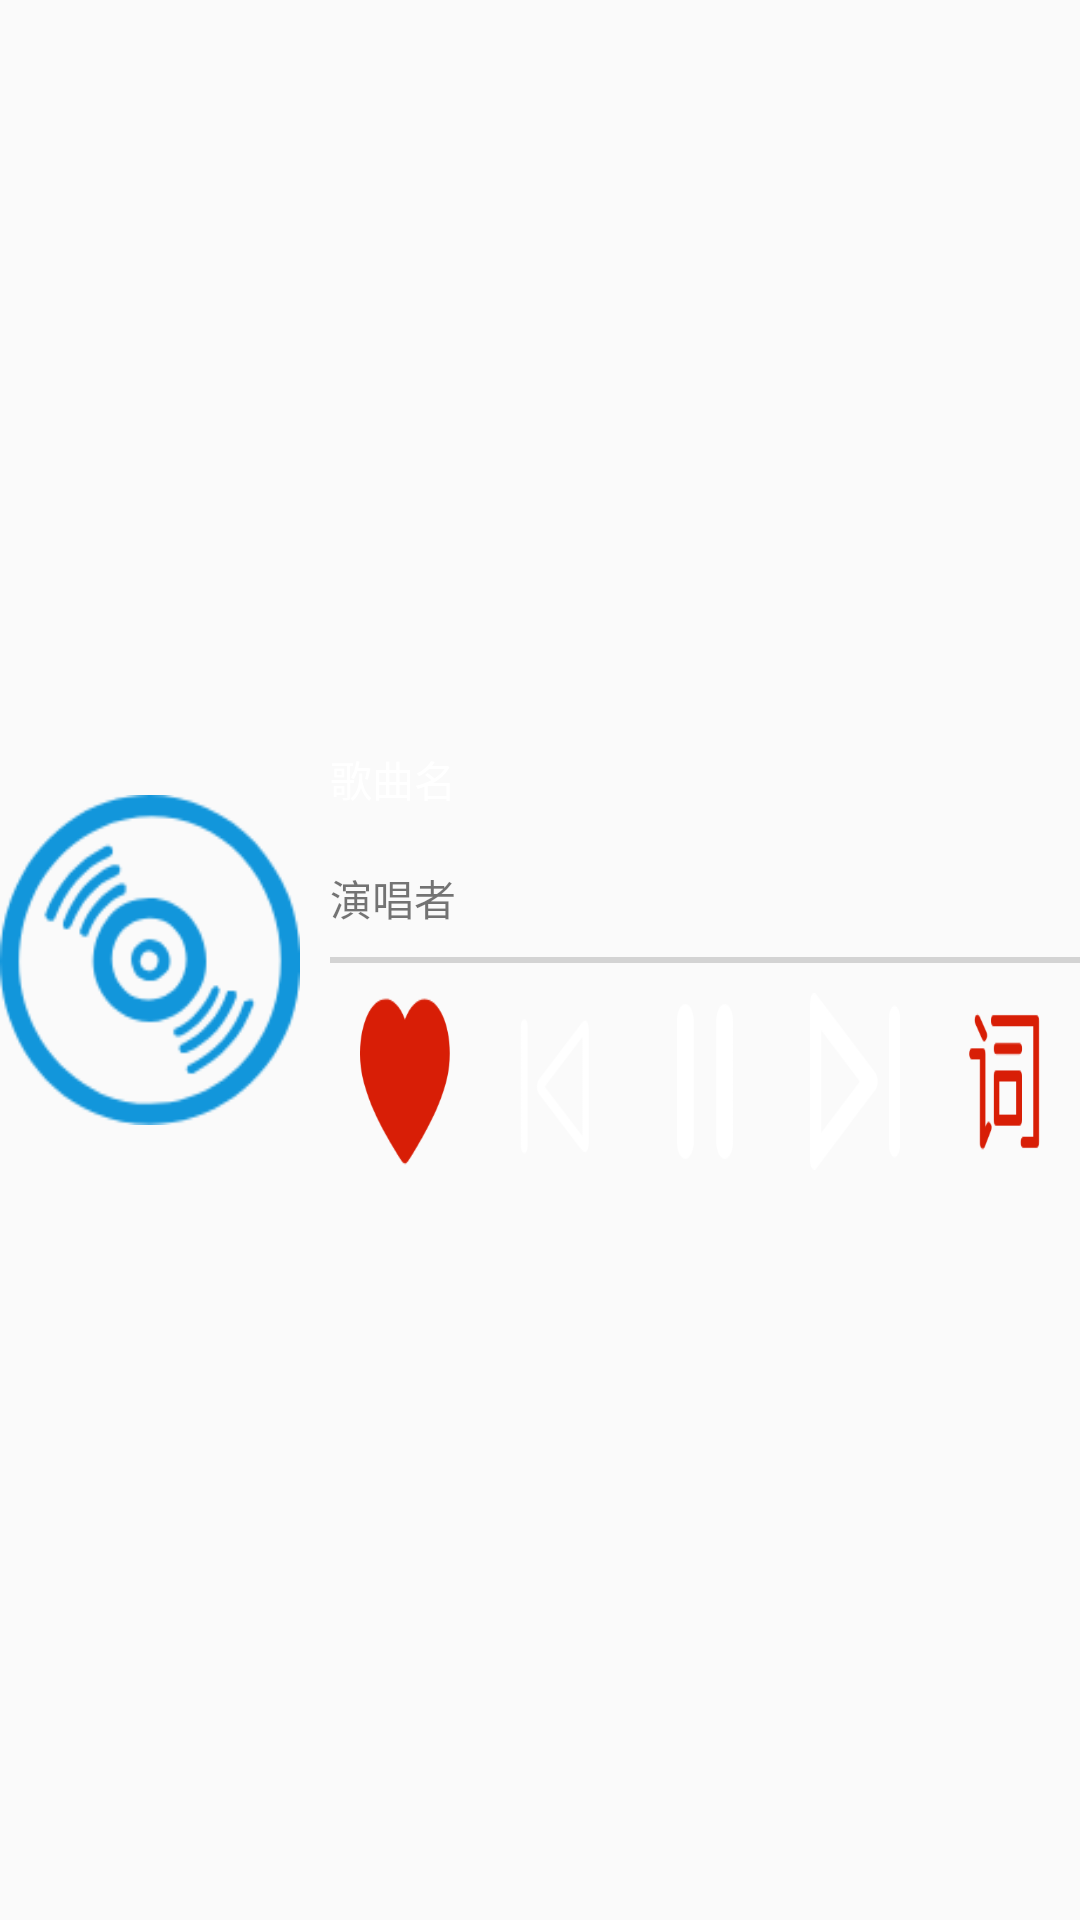

Where icons sit on this 1080*1920 app screen, as (x1, y1, x2, y2):
cahngpian: (0, 795, 300, 1125)
shouchang: (360, 998, 450, 1165)
